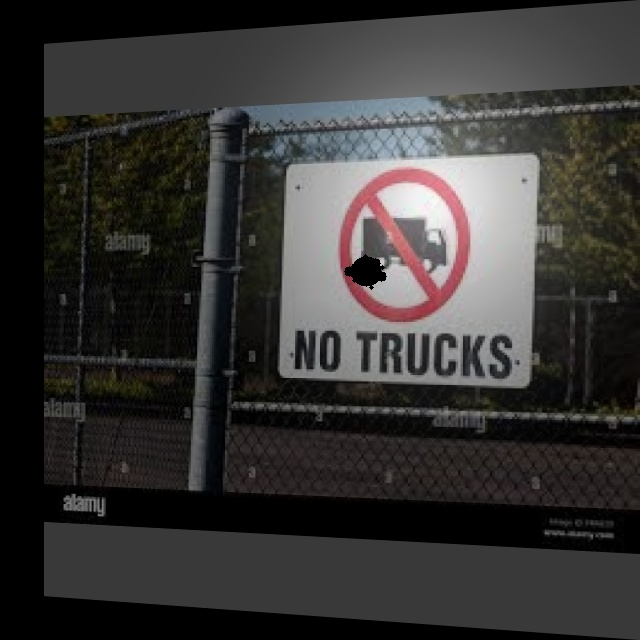Truck_Prohibited: (332, 161, 476, 326)
